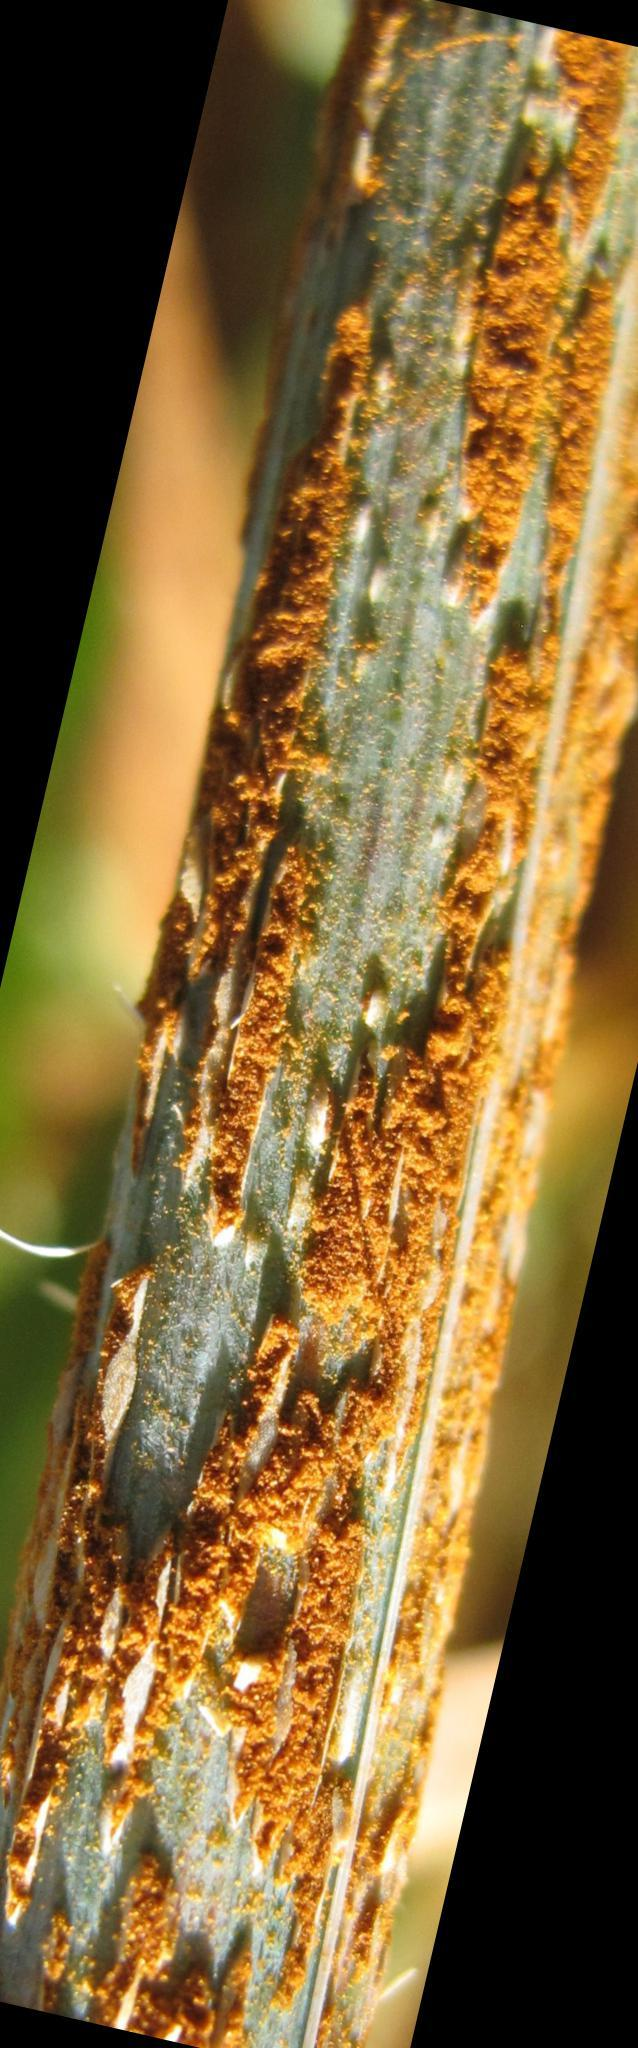Wheat: (144, 769, 587, 1509), (354, 29, 626, 737), (39, 1549, 309, 2000)
